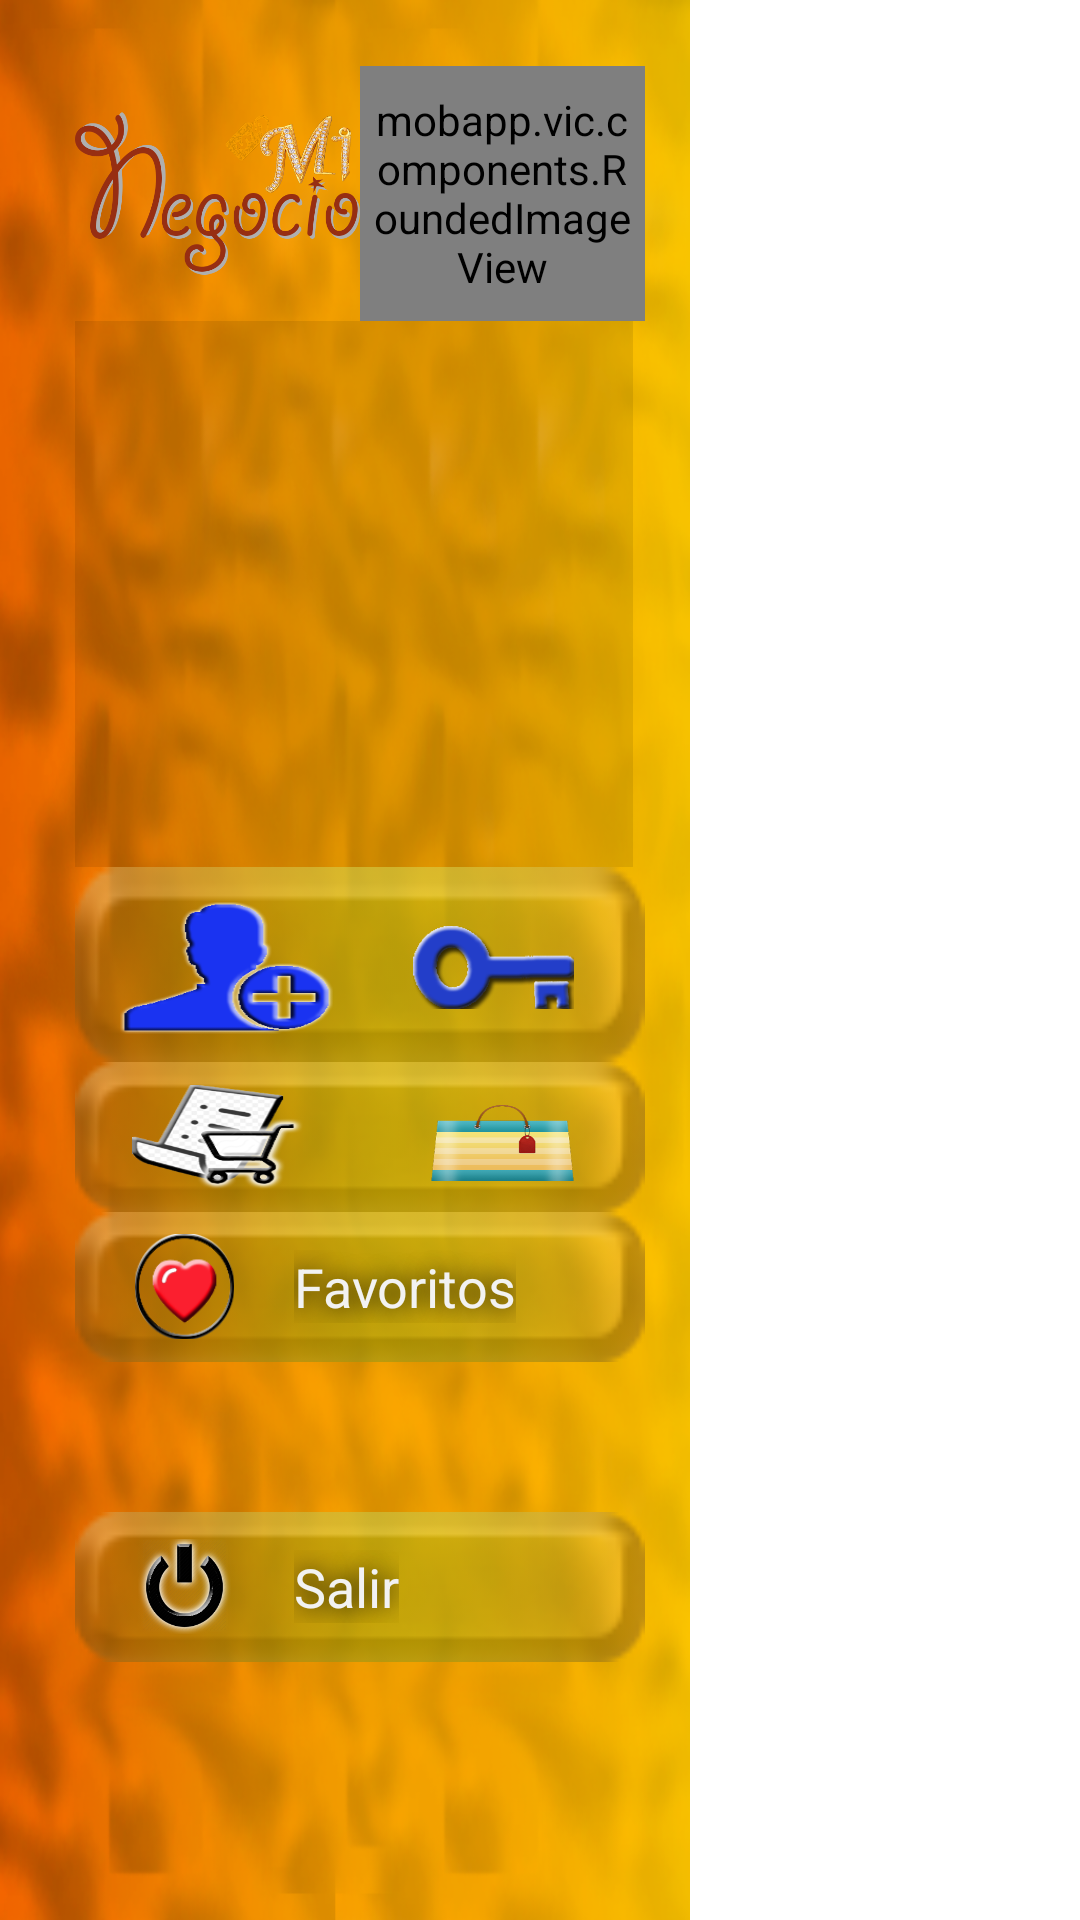

Icon click points for this 1080 × 1920 phone screenshot, format (x,y):
megustarojo: (184,1286)
